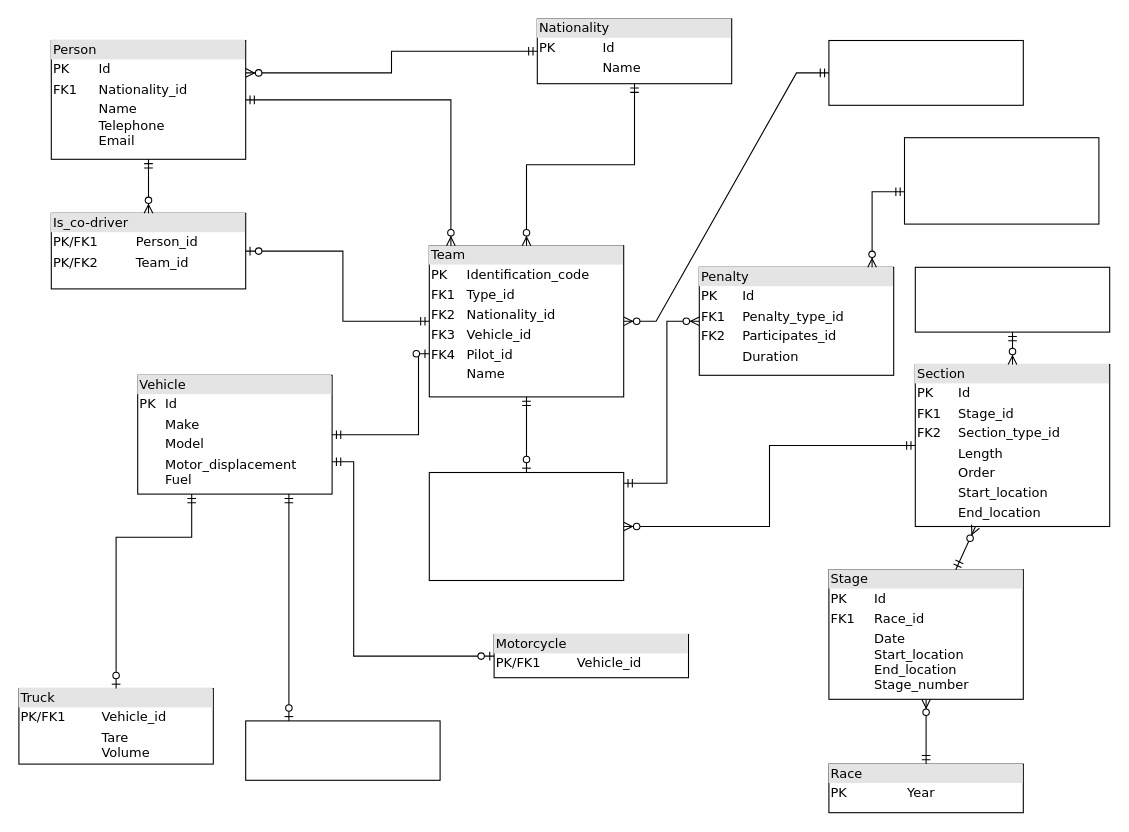
The diagram is 1129 pixels wide and 832 high, and some of its shapes have lost their labels. Here are the shapes that lost their labels. From the top down, the centre of each, then its label:
[925,72]: Type PK Id Name
[1001,180]: Penalty_type PK Id Description Max_penalty_time
[1012,299]: Section_type PK Id Name
[526,525]: Participates PK FK1 Id Team_id FK2 Section_id Time
[342,750]: Car PK/FK1 Vehicle_id Num_of_cylinders
